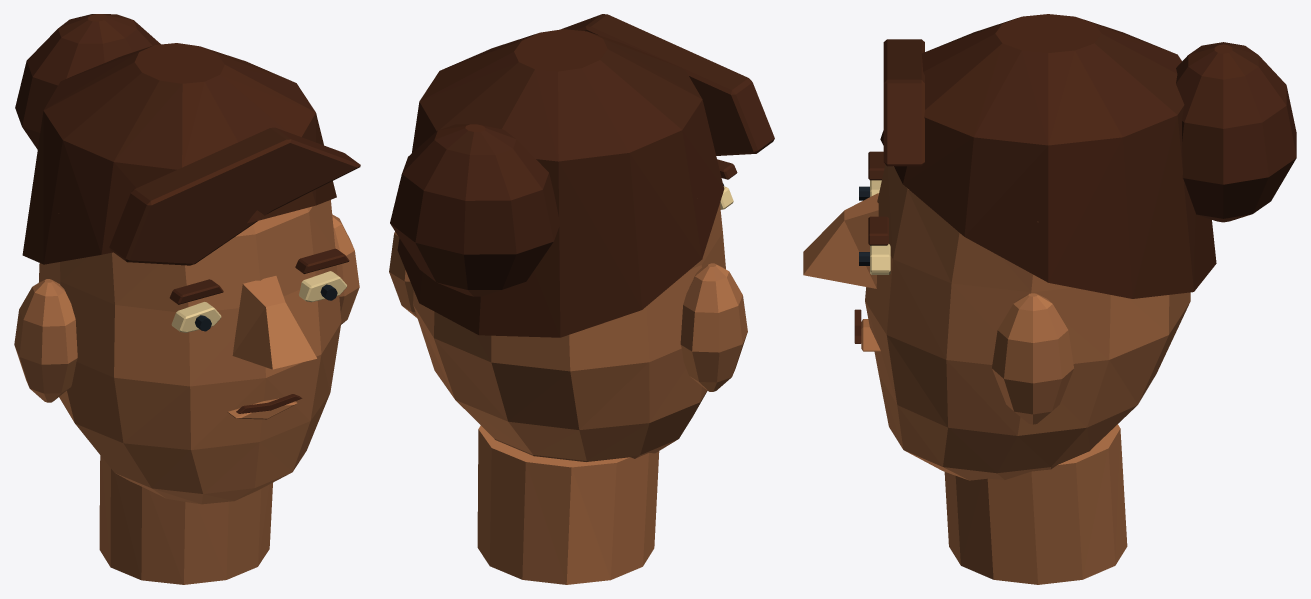
File: EP_Head_Bun.fbx
3 views of the same model, side by side, from view 1: azimuth 30°, elevation 25°; view 2: azimuth 150°, elevation 25°; view 3: azimuth 270°, elevation 25° (orthographic). The views are drawn at different scales.
Visible parts, largest first — view 1: EP_Head_Bun; view 2: EP_Head_Bun; view 3: EP_Head_Bun.
Boxes of the visible parts, <box> form: EP_Head_Bun: <box>14,14,360,584</box>; EP_Head_Bun: <box>389,14,774,584</box>; EP_Head_Bun: <box>803,14,1296,584</box>.
Bounding box in the file's own units: 0.24 × 0.33 × 0.2878.
